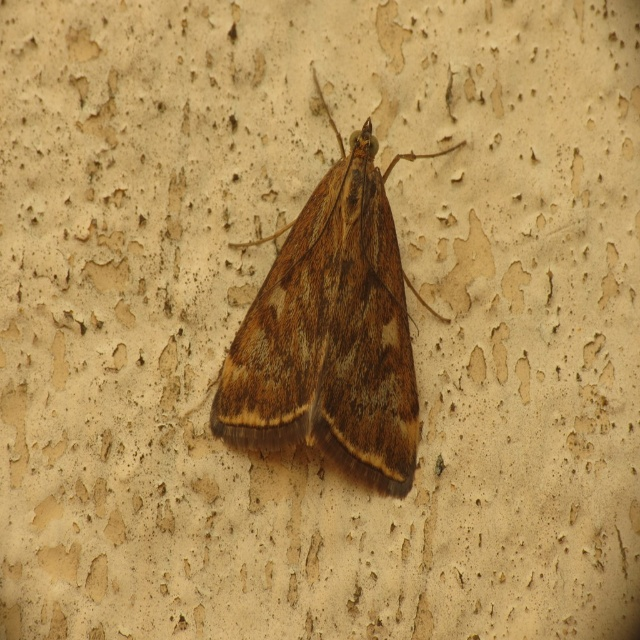Moths and butterflies: (212, 63, 470, 499)
